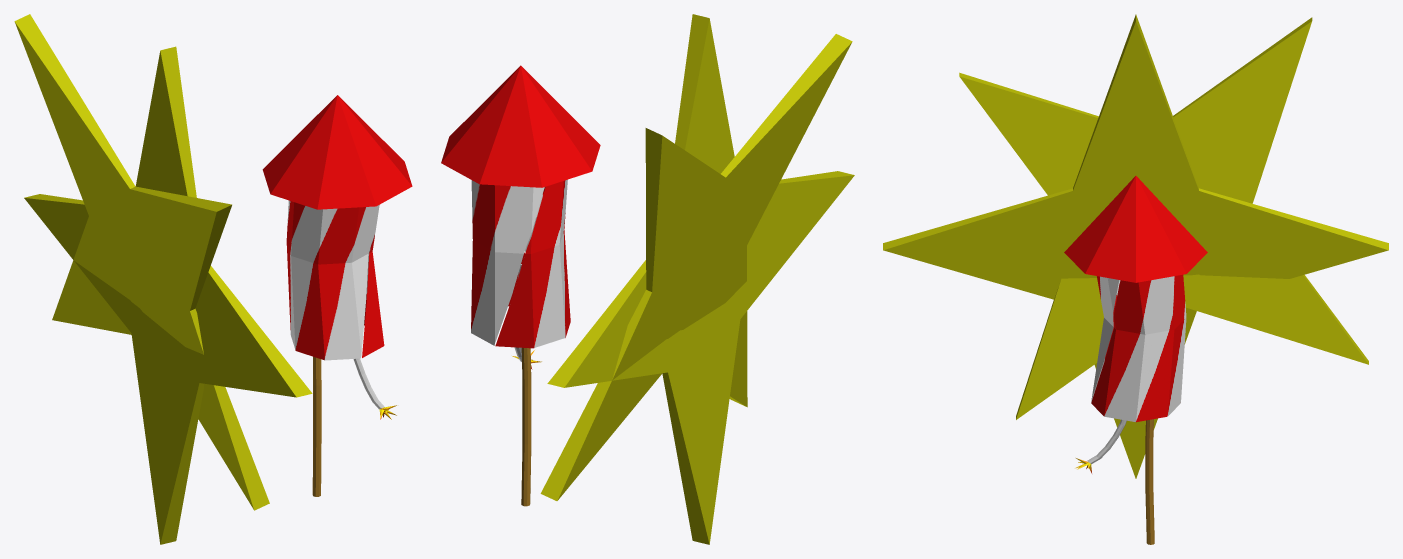
File: firework_.fbx
3 renders of one model, left to right at view 1: azimuth 30°, elevation 25°; view 2: azimuth 150°, elevation 25°; view 3: azimuth 270°, elevation 25°, orthographic. The views are drawn at different scales.
Parts seen in each view (by area): view 1: Cylinder.005, Cylinder.004, Cylinder, Cylinder.001, Cylinder.002; view 2: Cylinder.005, Cylinder.004, Cylinder, Cylinder.001, Cylinder.002; view 3: Cylinder.004, Cylinder.005, Cylinder, Cylinder.001, Cylinder.002.
Part boxes in pixels (bbox=[...]): Cylinder.005: bbox=[14, 14, 269, 510]; Cylinder.004: bbox=[24, 46, 312, 544]; Cylinder: bbox=[286, 200, 384, 360]; Cylinder.001: bbox=[262, 95, 412, 209]; Cylinder.002: bbox=[312, 356, 321, 496]; Cylinder.005: bbox=[540, 34, 852, 500]; Cylinder.004: bbox=[547, 14, 854, 544]; Cylinder: bbox=[471, 179, 570, 348]; Cylinder.001: bbox=[441, 65, 600, 187]; Cylinder.002: bbox=[521, 347, 531, 506]; Cylinder.004: bbox=[883, 14, 1388, 478]; Cylinder.005: bbox=[959, 17, 1368, 419]; Cylinder: bbox=[1091, 274, 1186, 422]; Cylinder.001: bbox=[1064, 176, 1207, 282]; Cylinder.002: bbox=[1145, 419, 1154, 544].
Bounding box in the file's own units: 1135 × 1817 × 1817.
